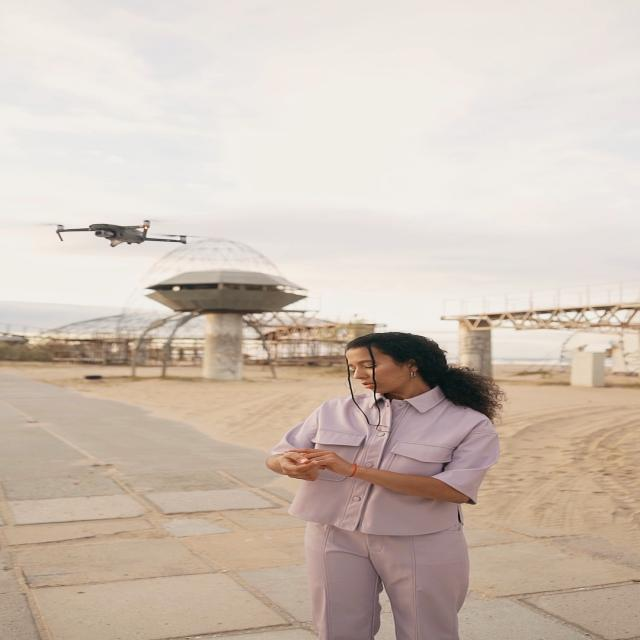Drone: (52, 215, 199, 256)
